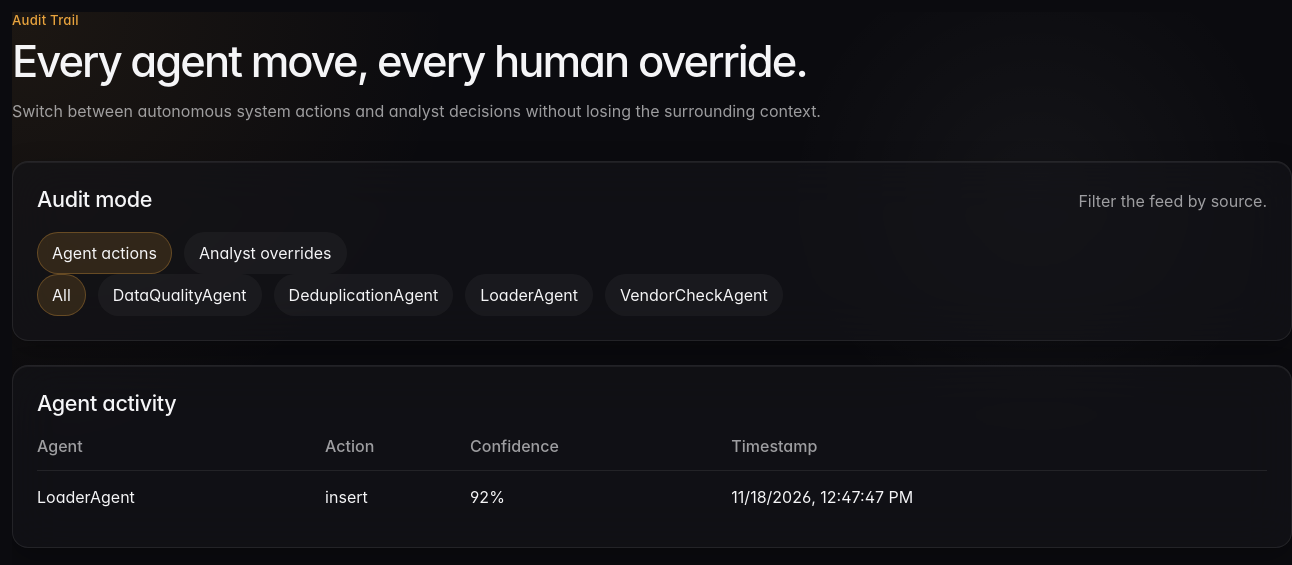
Test case: frontend pages › switches audit modes
The width and height of the screenshot is (1292, 565).
Check: the button "LoaderAgent" is shown, box [465,274,593,316]
Click the button "Analyst overrides".
click(265, 253)  # box [184,232,346,274]
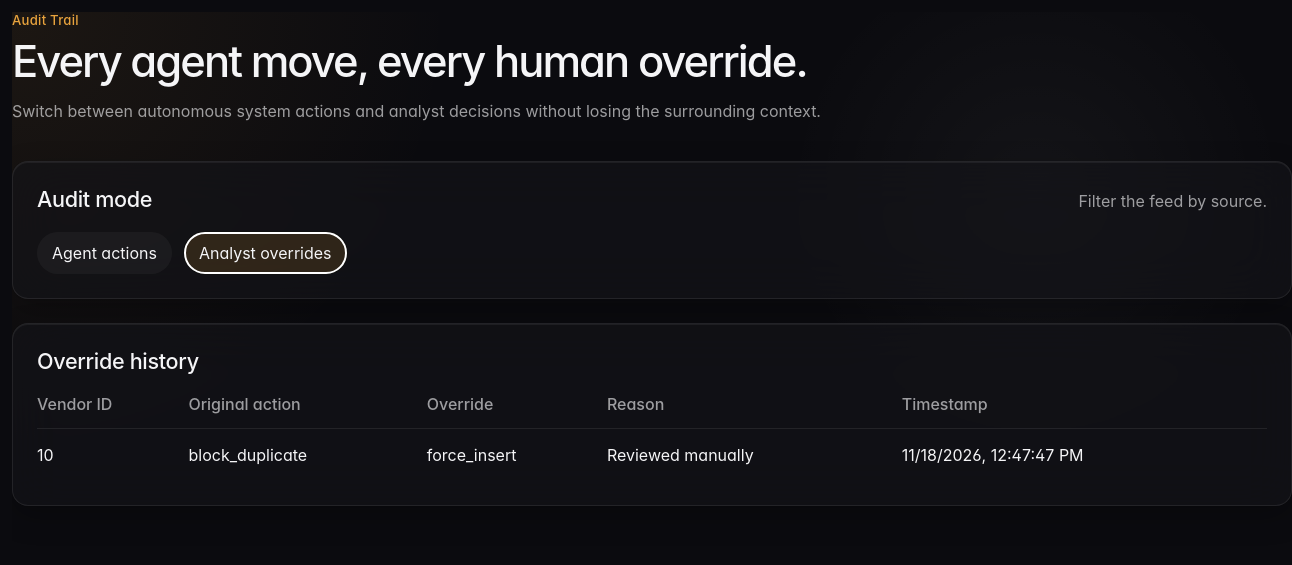
Check: the text "Reviewed manually" is shown, box [607,428,902,481]
